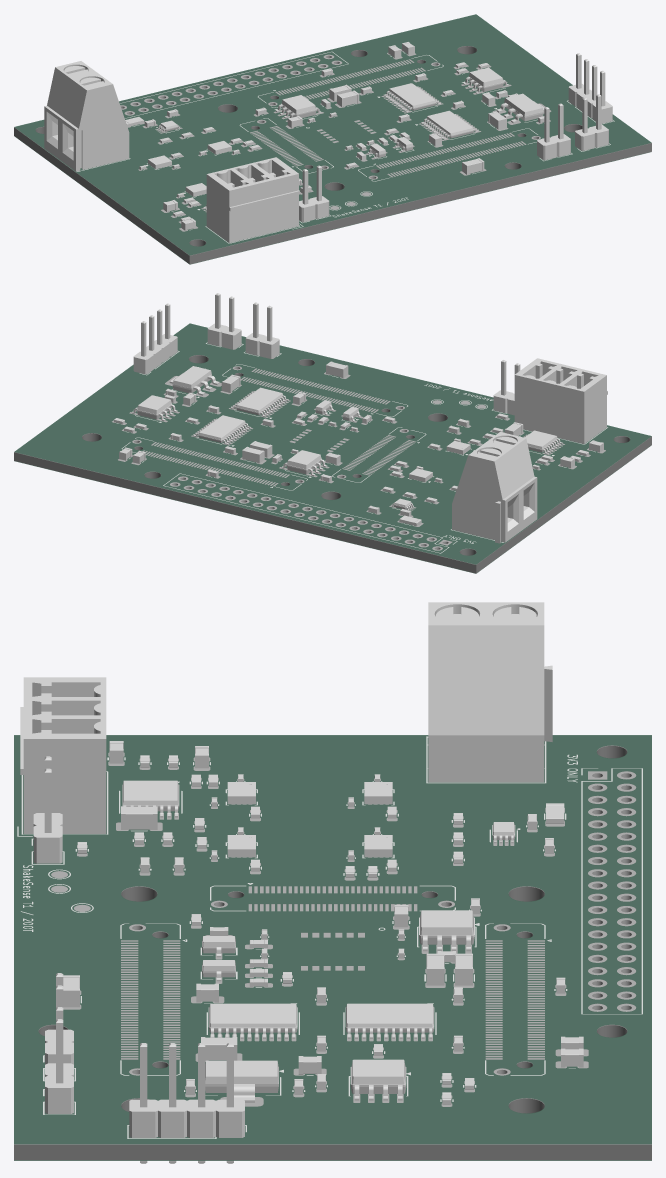
The picture shows the model from 3 angles, top to bottom: view 1: azimuth 30°, elevation 25°; view 2: azimuth 150°, elevation 25°; view 3: azimuth 270°, elevation 25°; orthographic projection. The views are drawn at different scales.
Visible parts, largest first — view 1: =>[0:1:1:25], =>[0:1:1:27], J83, =>[0:1:1:22], J90, =>[0:1:1:23], J4, JP81, JP80, JP1, U41, U42 (+4 smaller); view 2: =>[0:1:1:25], =>[0:1:1:27], =>[0:1:1:22], J83, J90, =>[0:1:1:23], J4, JP81, JP80, U42, U41, U40 (+5 smaller); view 3: =>[0:1:1:25], =>[0:1:1:27], J83, =>[0:1:1:22], J90, J4, =>[0:1:1:23], U41, U42, U40, U1, U43 (+5 smaller).
Part boxes in pixels (x1,y1,x2,y2): =>[0:1:1:25]: (14, 14, 651, 255); =>[0:1:1:27]: (14, 15, 651, 264); J83: (44, 61, 129, 171); =>[0:1:1:22]: (120, 49, 551, 231); J90: (206, 157, 299, 242); =>[0:1:1:23]: (77, 51, 614, 243); J4: (568, 53, 612, 123); JP81: (575, 94, 608, 150); JP80: (537, 103, 570, 160); JP1: (299, 165, 329, 222); U41: (383, 83, 441, 112); U42: (421, 110, 478, 140); =>[0:1:1:25]: (14, 323, 651, 564); =>[0:1:1:27]: (14, 324, 651, 573); =>[0:1:1:22]: (112, 366, 605, 550); J83: (452, 432, 537, 543); J90: (514, 358, 607, 443); =>[0:1:1:23]: (116, 342, 607, 553); J4: (133, 303, 177, 374); JP81: (207, 293, 241, 349); JP80: (245, 302, 279, 358); U42: (230, 387, 288, 417); U41: (193, 415, 251, 444); U40: (169, 366, 219, 395); =>[0:1:1:25]: (14, 735, 651, 1144); =>[0:1:1:27]: (14, 736, 651, 1160); J83: (428, 602, 552, 782); =>[0:1:1:22]: (51, 753, 636, 1106); J90: (20, 677, 106, 833); J4: (129, 1043, 244, 1163); =>[0:1:1:23]: (17, 736, 642, 1138); U41: (345, 1003, 434, 1038); U42: (208, 1003, 297, 1038); U40: (205, 1060, 278, 1102); U1: (350, 1059, 406, 1100); U43: (419, 910, 474, 951).
Bounding box in the file's own units: 0.085 × 0.0173 × 0.056.
